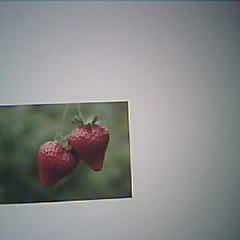straw-ripe: (71, 125, 110, 171), (39, 142, 76, 184)
